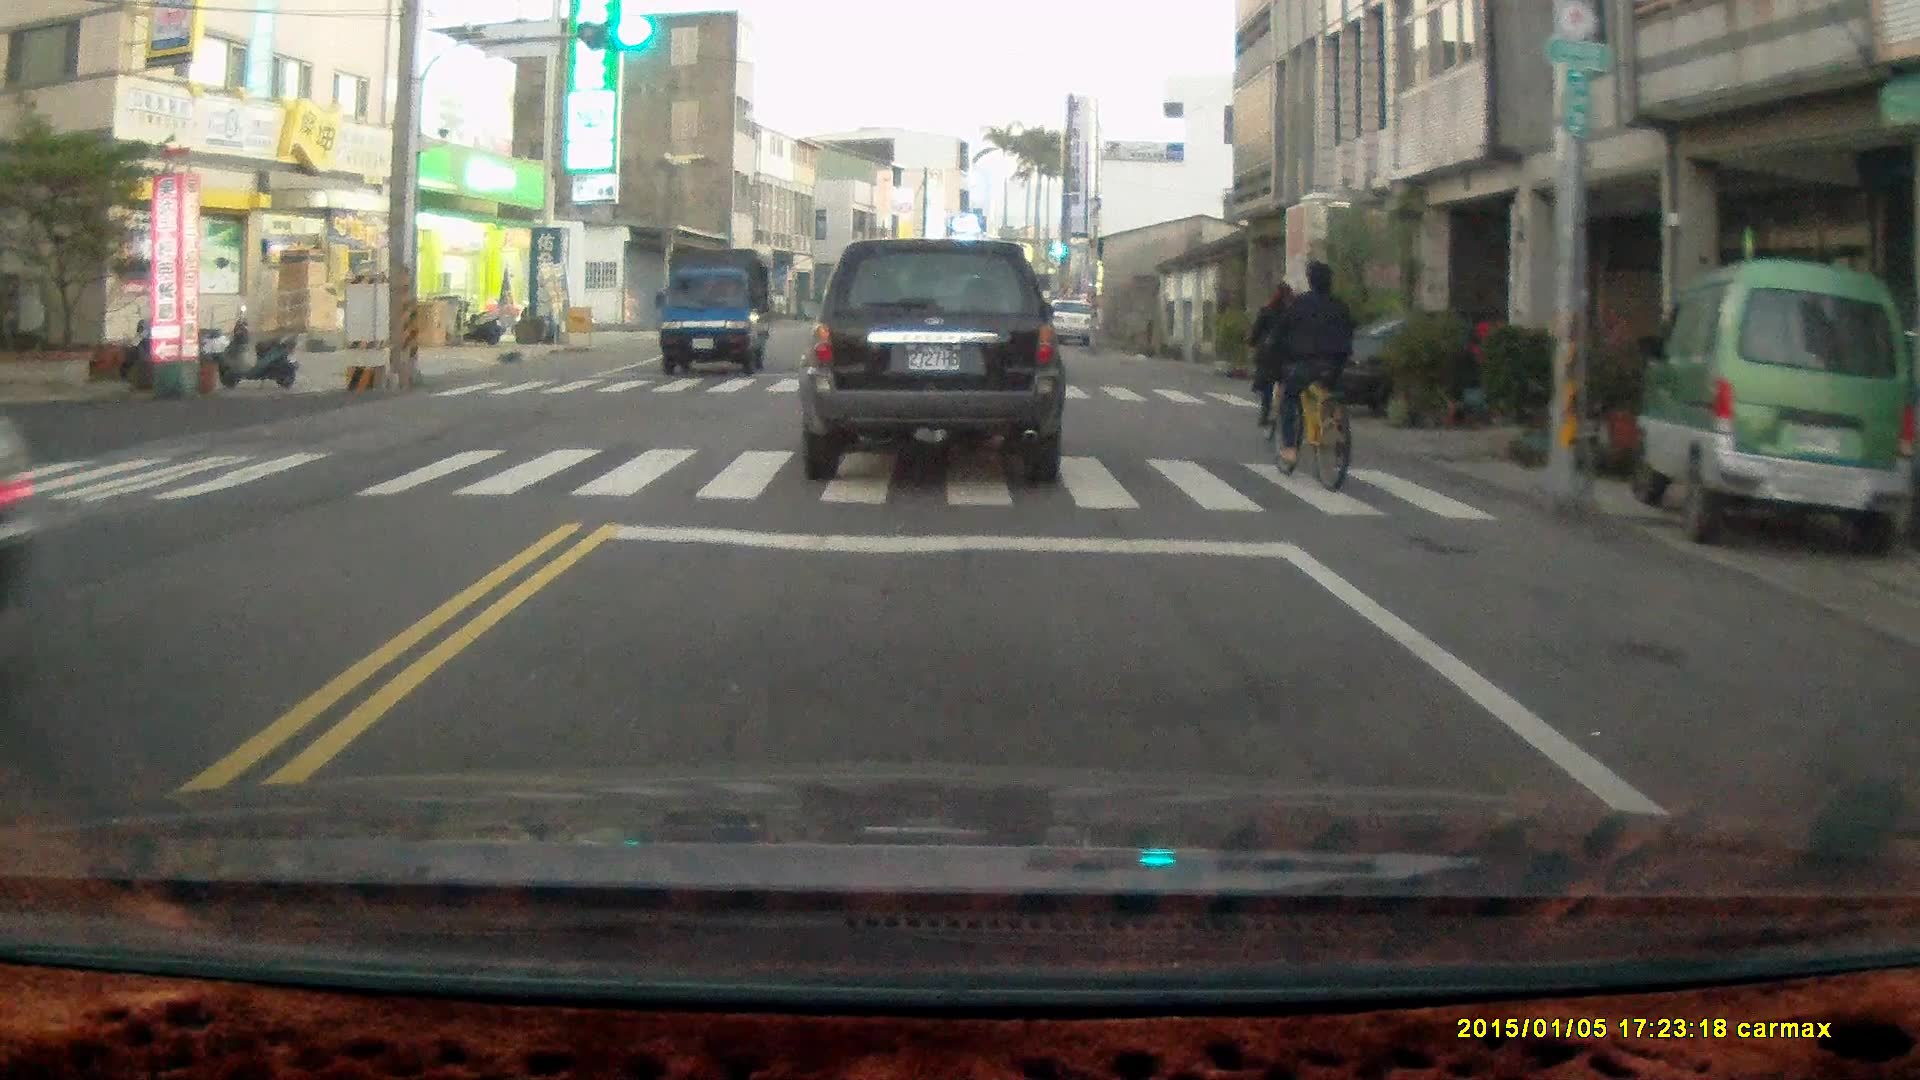rider: (1270, 255, 1363, 487), (1250, 273, 1312, 443)
vehicle: (1633, 257, 1906, 556), (799, 237, 1067, 482), (1337, 309, 1629, 426), (657, 250, 774, 377), (1, 412, 59, 597)
